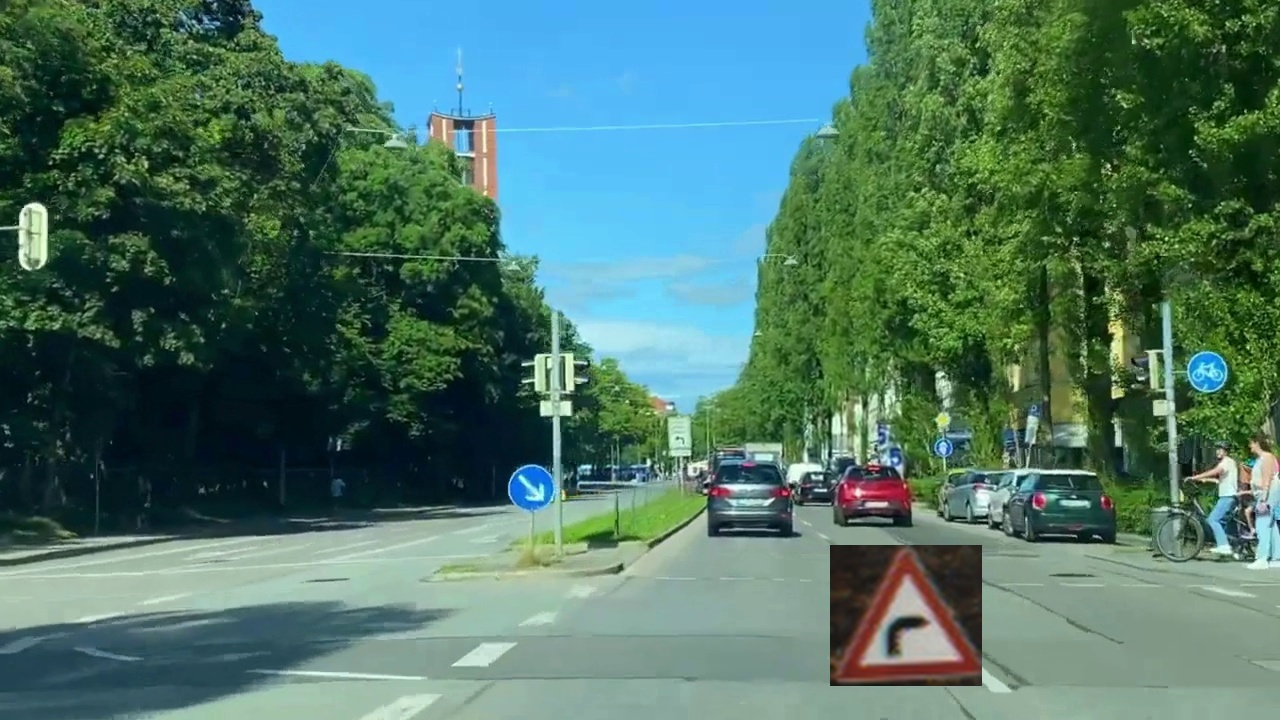Curve right: (830, 545, 982, 686)
